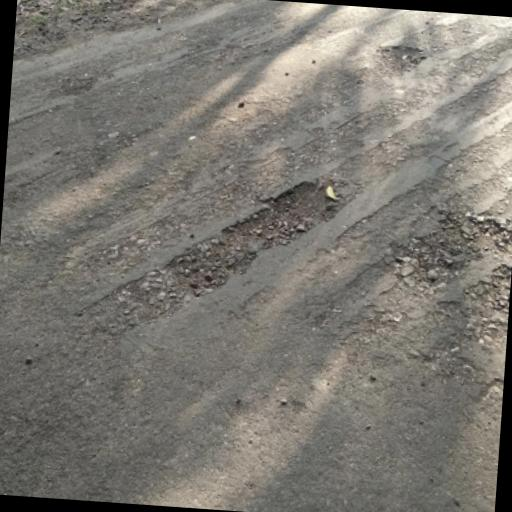pothole: (162, 166, 356, 308), (386, 202, 512, 296), (460, 259, 511, 316), (371, 38, 430, 83)
